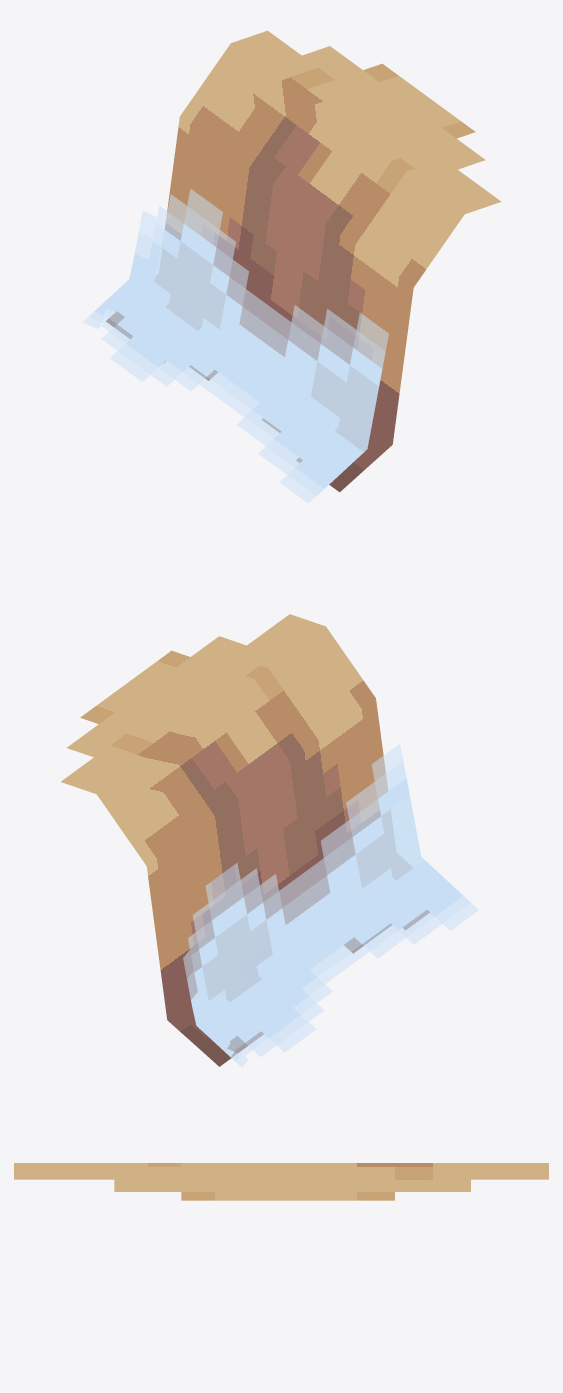
3 views of the same model, one above another, from view 1: azimuth 30°, elevation 25°; view 2: azimuth 150°, elevation 25°; view 3: azimuth 270°, elevation 25° (orthographic). The views are drawn at different scales.
Bounding box in the file's own units: 0.7705 × 0.7266 × 1.
Materials: 2 (2 with a texture image).
